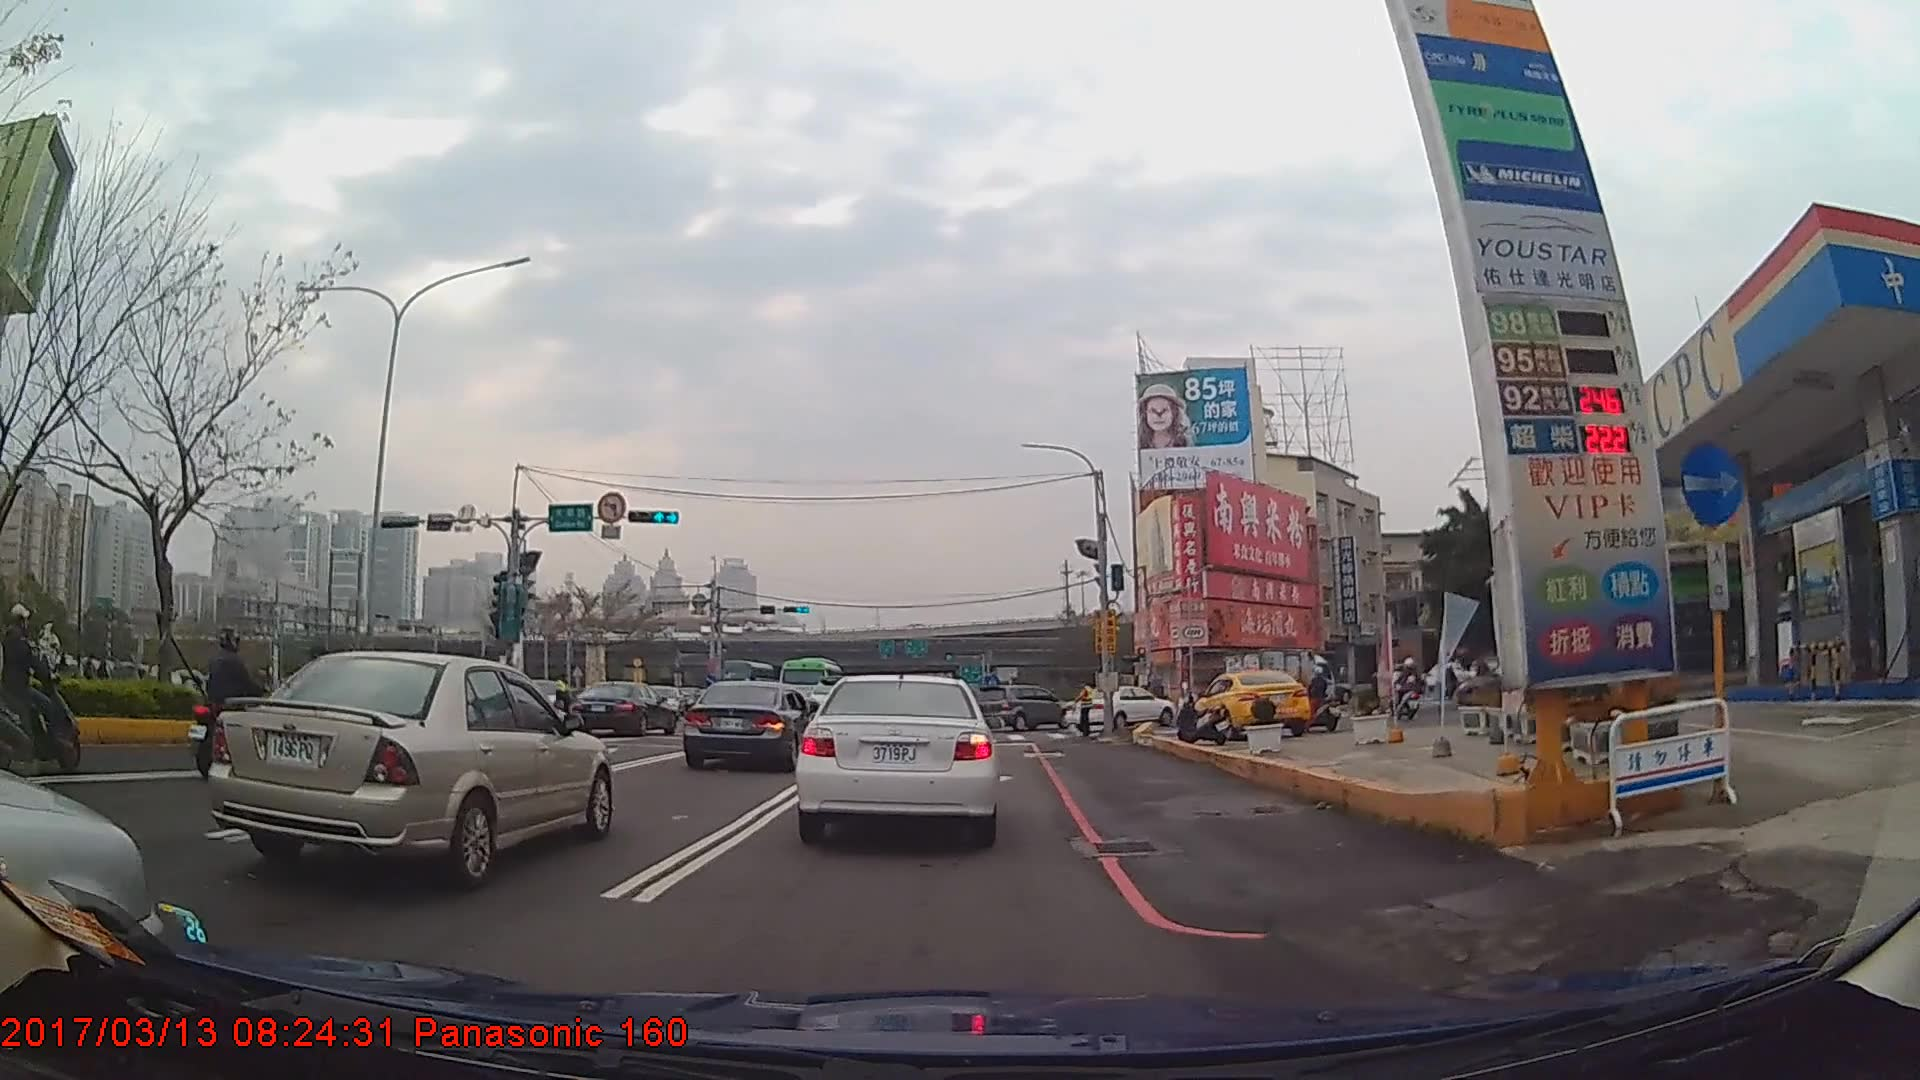pedestrian: (1070, 679, 1095, 738)
rider: (185, 627, 277, 781), (5, 606, 81, 778), (1300, 666, 1341, 735), (1394, 658, 1421, 722)
vehicle: (210, 648, 613, 890), (797, 667, 999, 844), (681, 680, 818, 771), (1189, 667, 1311, 736), (1219, 647, 1336, 715), (568, 680, 675, 734), (1066, 681, 1175, 729), (974, 683, 1071, 729), (775, 655, 845, 712)
